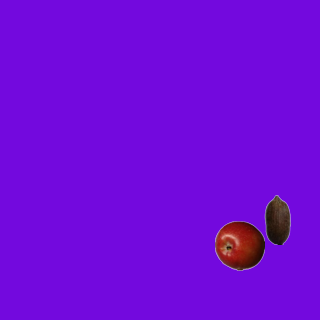Apple Braeburn: (214, 220, 264, 270)
Nut Pecan: (252, 194, 302, 244)
